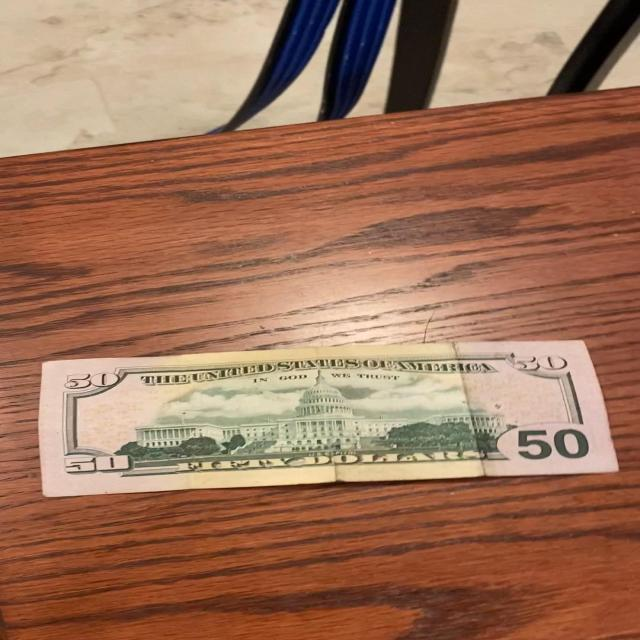50-Back: (37, 340, 626, 516)
